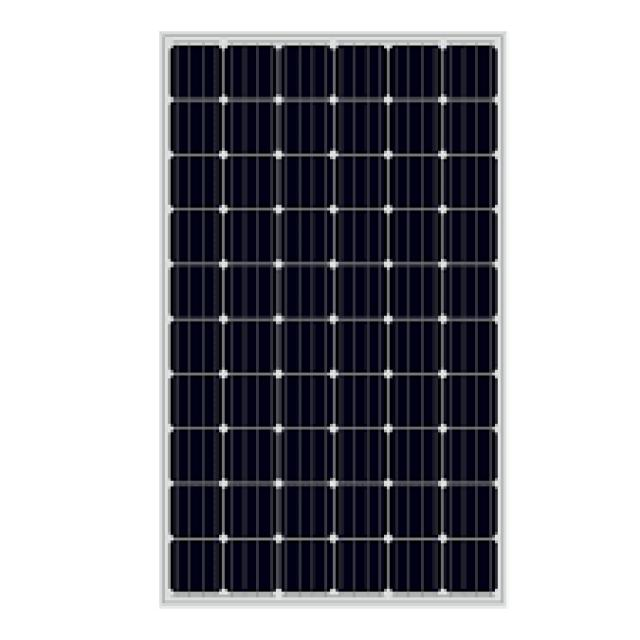no faulty: (161, 49, 501, 596)
